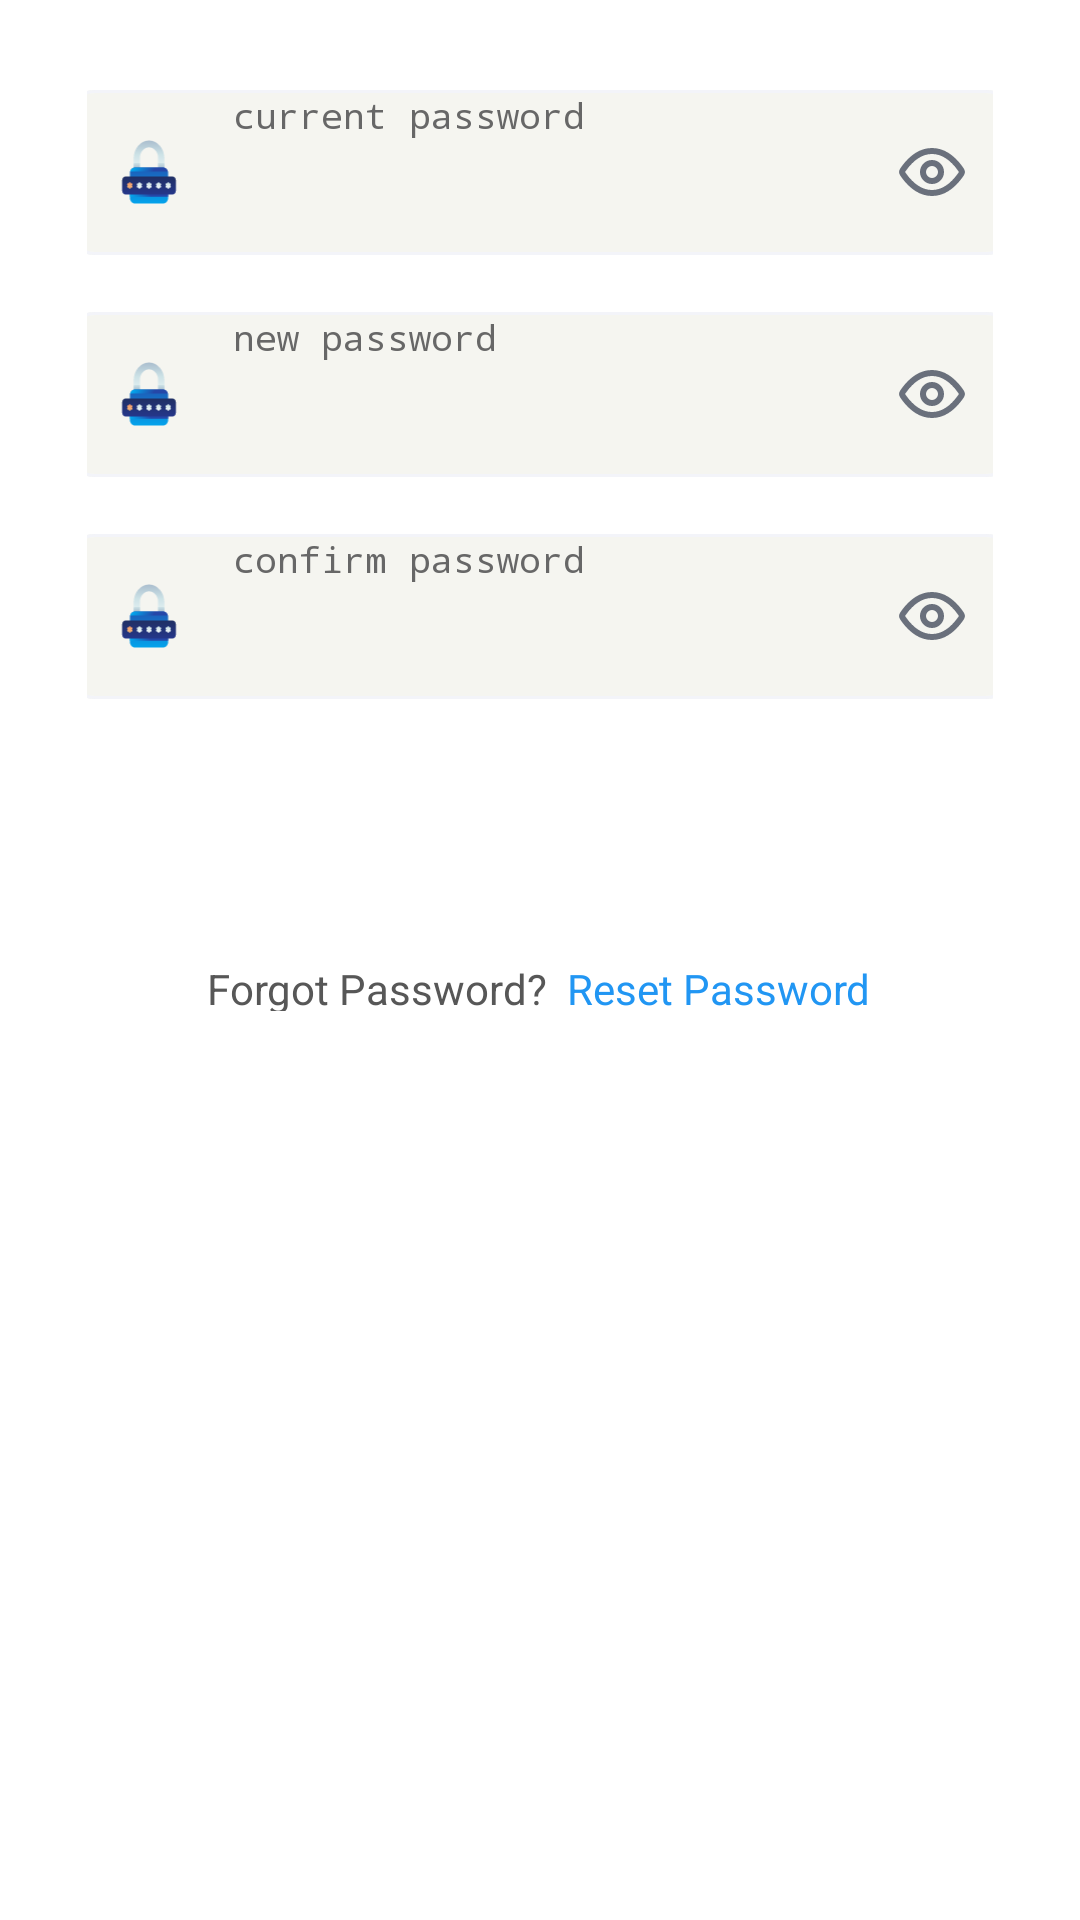

Named icons in this screenshot (1080*1920) and their centers, (x,y):
eye open: (932,172), (932,394), (932,616)
lock: (149,172), (149,394), (149,616)
